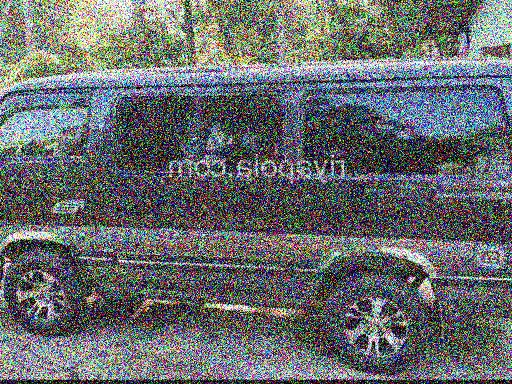van: (0, 51, 512, 339)
